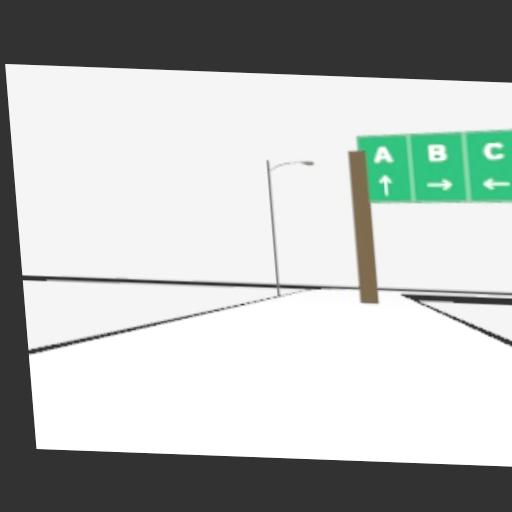A: (371, 143, 392, 163)
B: (427, 142, 447, 162)
C: (483, 141, 505, 159)
Left: (479, 175, 512, 188)
Right: (425, 177, 455, 190)
Straight: (376, 174, 392, 195)
